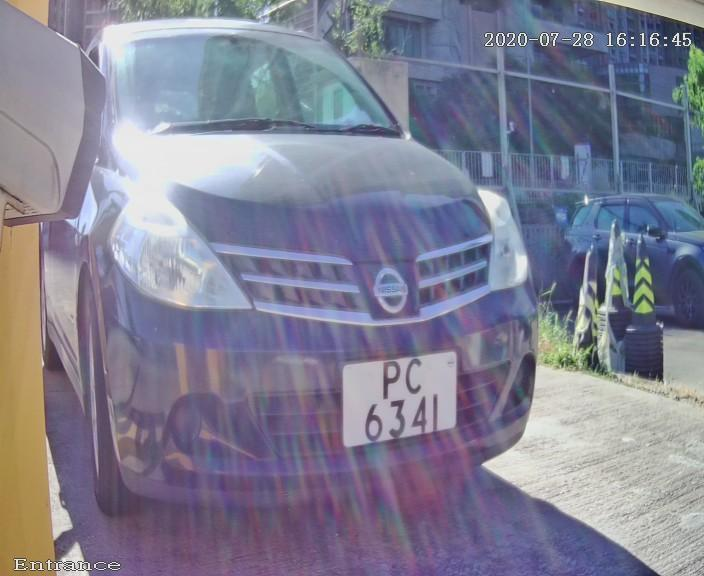privatecar: (26, 13, 607, 561)
